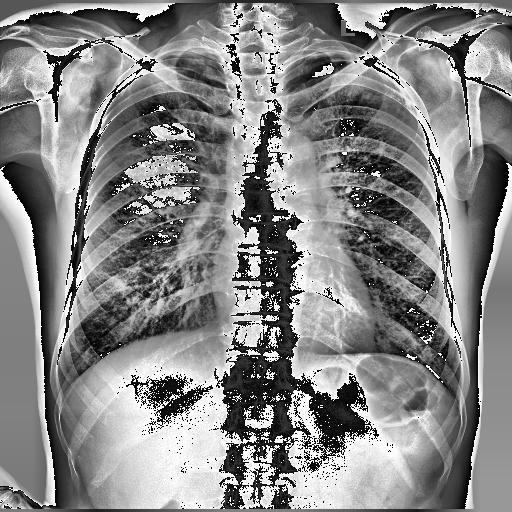11- Pleural thickening: (157, 48, 222, 72), (280, 50, 352, 66)
5- ILD: (320, 120, 460, 364), (64, 136, 198, 370), (336, 164, 460, 366), (60, 194, 200, 366)
